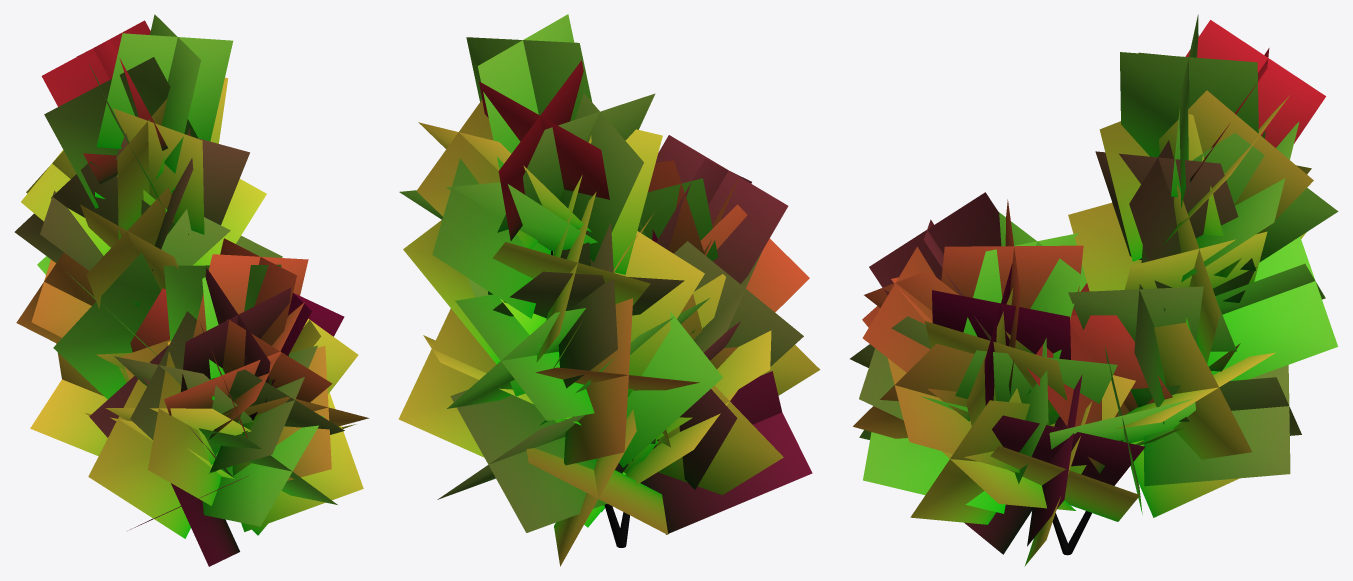
The model's file is Tree_9.fbx.
3 views of the same model, side by side, from view 1: azimuth 30°, elevation 25°; view 2: azimuth 150°, elevation 25°; view 3: azimuth 270°, elevation 25° (orthographic). The views are drawn at different scales.
Parts seen in each view (by area): view 1: Tree_9; view 2: Tree_9; view 3: Tree_9.
Part boxes in pixels (x1,y1,x2,y2): Tree_9: (14,14,369,566); Tree_9: (398,14,820,566); Tree_9: (850,14,1338,566).
Bounding box in the file's own units: 1073 × 1884 × 1586.
